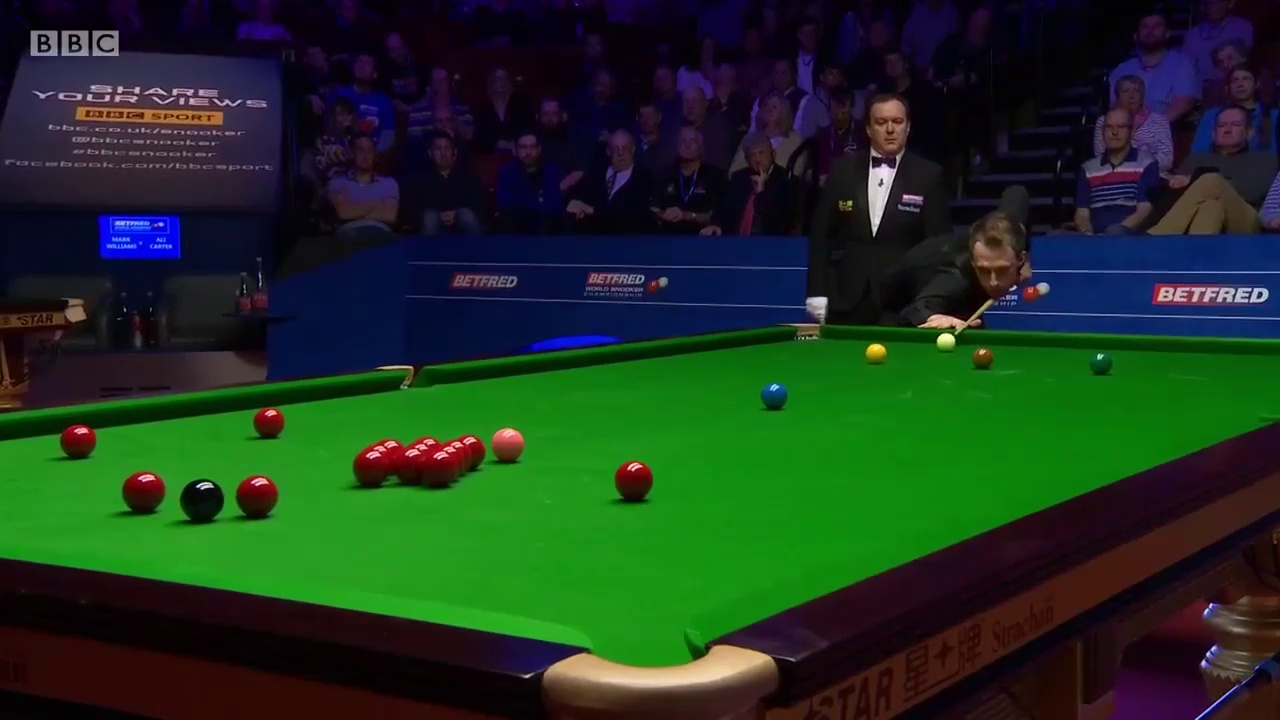black: (180, 479, 223, 524)
blue: (761, 382, 786, 408)
brown: (969, 350, 993, 368)
green: (1089, 350, 1110, 374)
pink: (491, 428, 524, 463)
red: (121, 474, 164, 517), (237, 477, 279, 518), (616, 460, 653, 501), (353, 450, 388, 488), (60, 424, 95, 457), (422, 453, 455, 488), (252, 408, 284, 436)
yellow: (865, 344, 888, 366)
